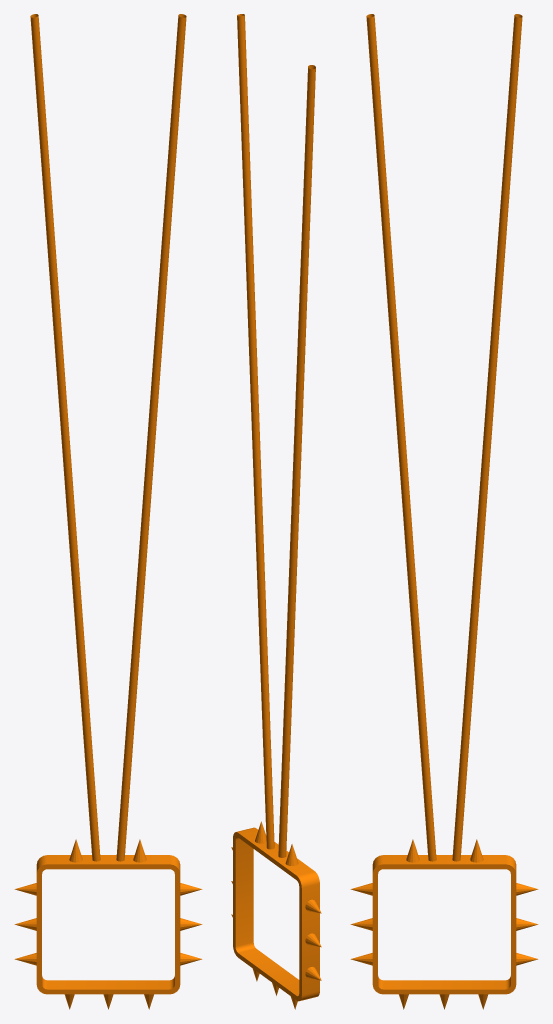
The model's file is cutter6_cube.fbx.
The picture shows the model from 3 angles, left to right: view 1: azimuth 90°, elevation 25°; view 2: azimuth 210°, elevation 25°; view 3: azimuth 270°, elevation 25°; orthographic projection. The views are drawn at different scales.
Visible parts, largest first — view 1: Cutter6_Cube; view 2: Cutter6_Cube; view 3: Cutter6_Cube.
Part boxes in pixels (<box>): Cutter6_Cube: <box>14,14,202,1009</box>; Cutter6_Cube: <box>231,14,321,1009</box>; Cutter6_Cube: <box>350,14,538,1009</box>.
Bounding box in the file's own units: 16.5 × 827 × 142.
